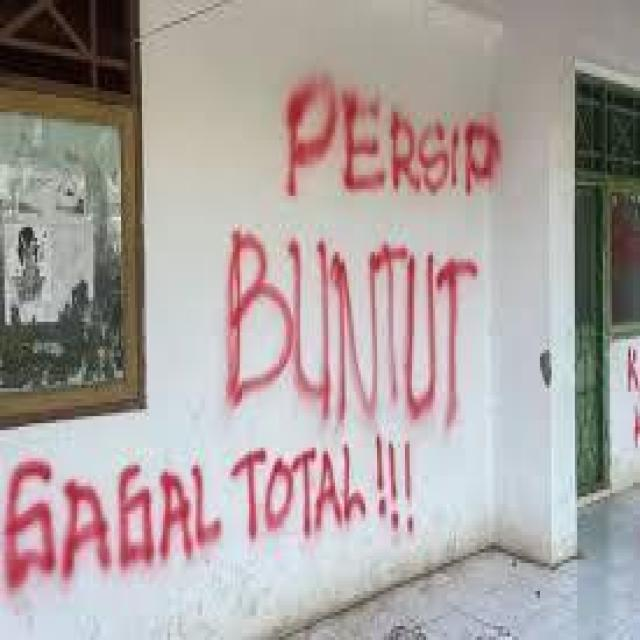nonspitting: (224, 66, 502, 426), (2, 430, 418, 594)
